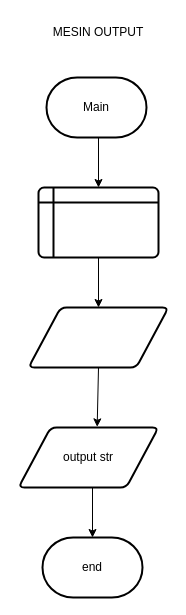
Image size: 186x615. Some labels were removed from this diagram. Each missing label, with the box of its shape:
input getline (str): (27, 306, 169, 368)
string str: (37, 186, 159, 258)
